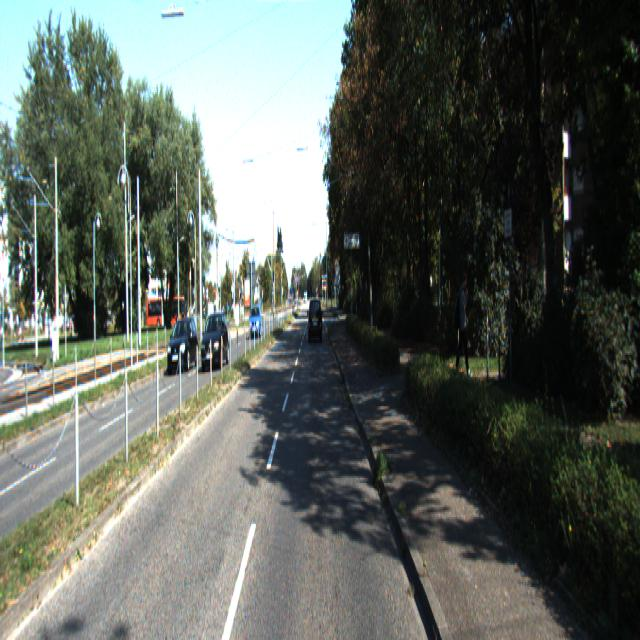Car: (168, 318, 200, 375), (201, 312, 230, 370), (308, 298, 323, 346), (249, 307, 263, 340)
